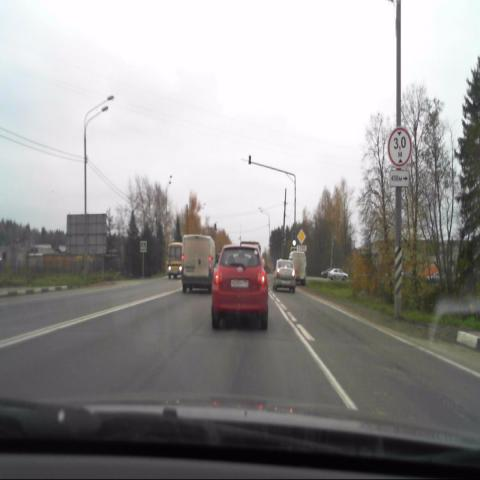3_13: (387, 126, 412, 169)
